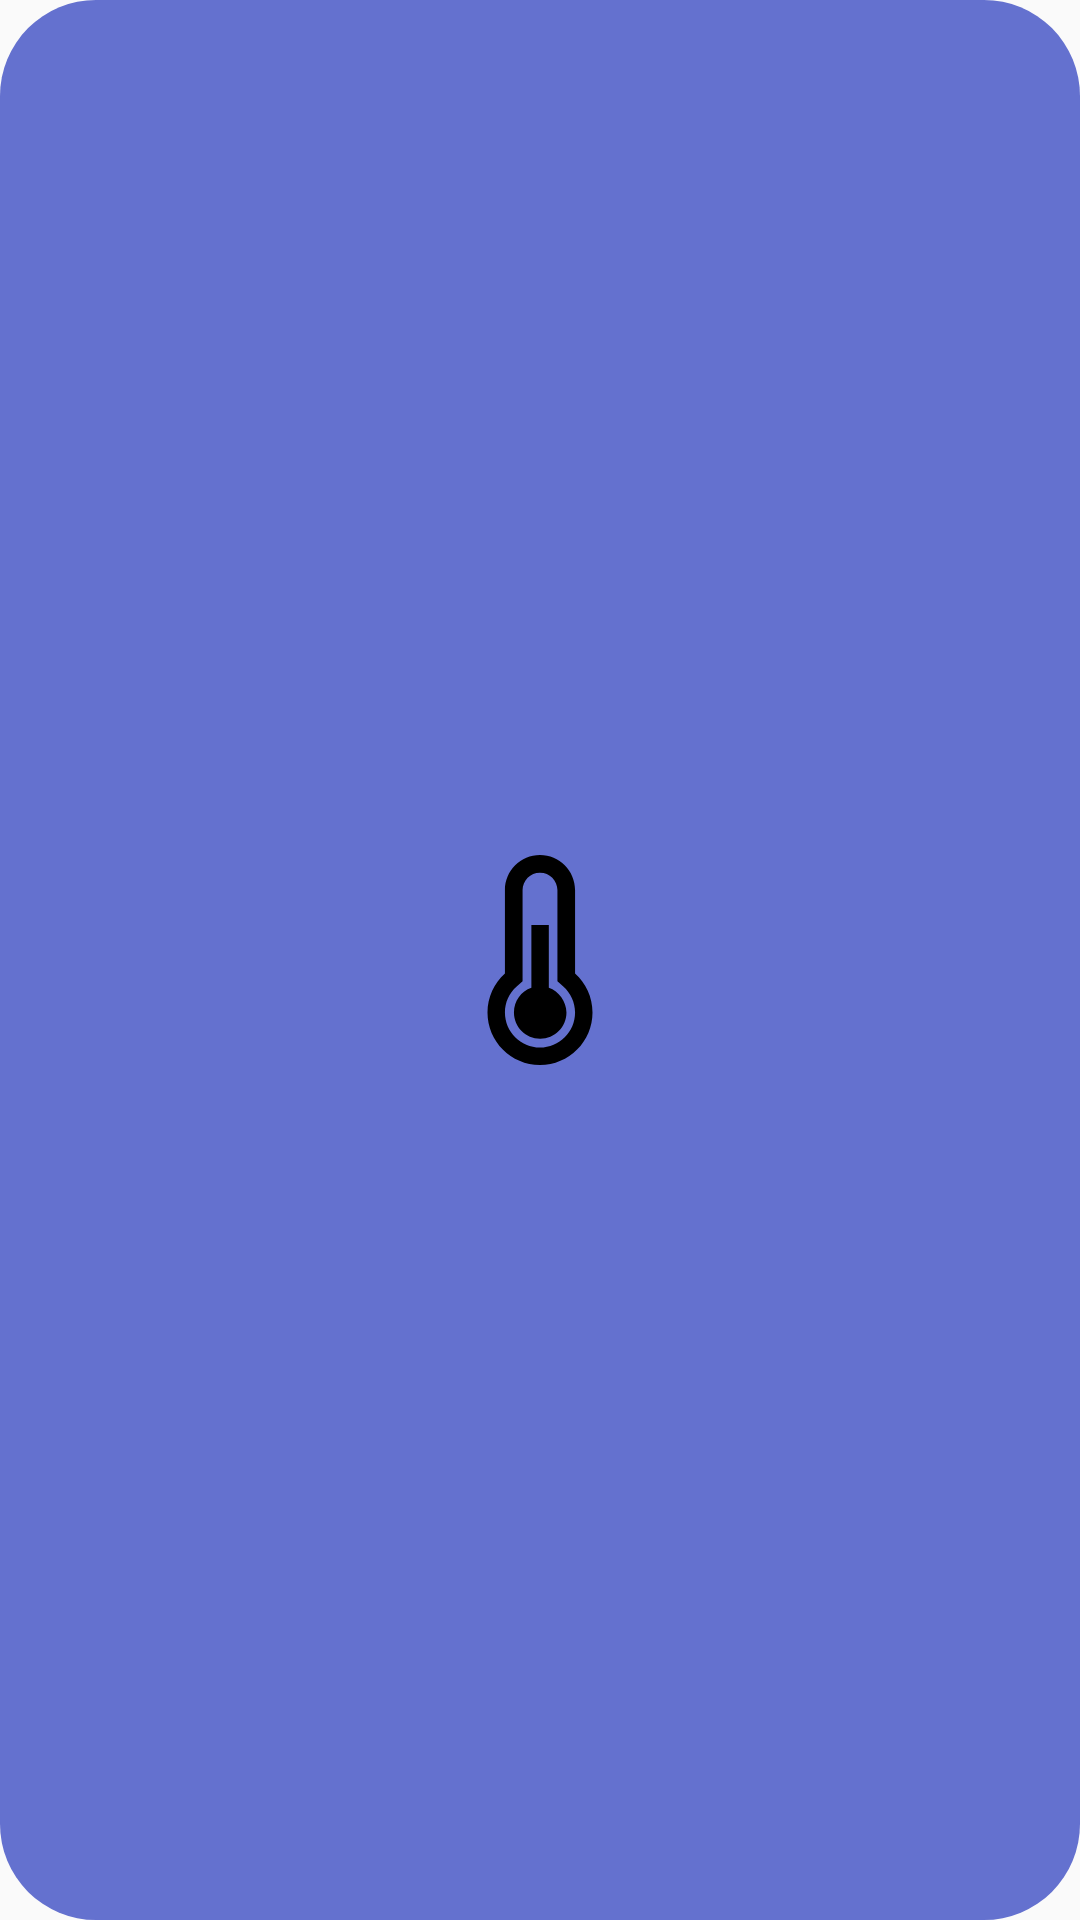

Named icons in this screenshot (1080px x 1920px) and their centers, (x=x, y=y):
temperature: (x=540, y=960)
